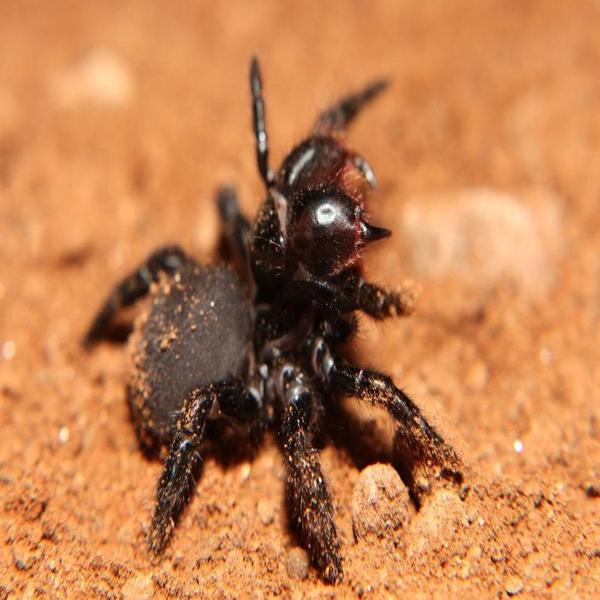Red Headed Mouse Spider: (98, 63, 452, 558)
